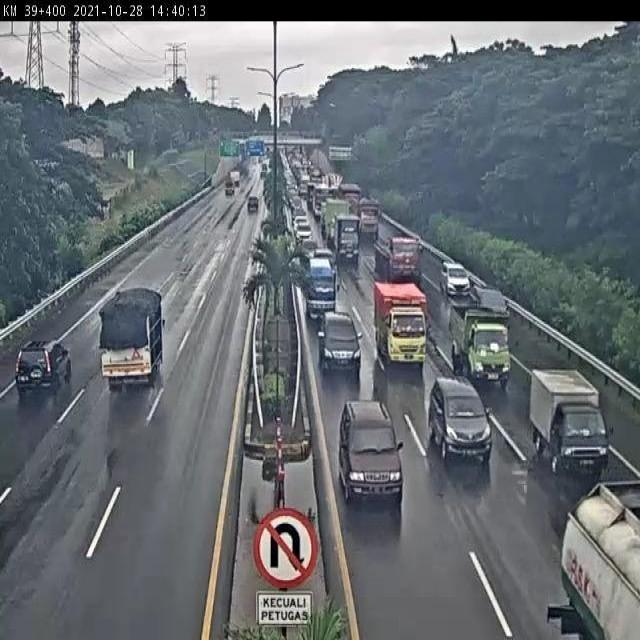bus-s-: (302, 253, 337, 320)
car: (339, 400, 405, 505), (428, 375, 492, 460), (15, 338, 73, 394), (317, 306, 363, 374), (472, 284, 512, 328), (439, 262, 472, 298), (298, 236, 320, 264), (313, 248, 335, 269)
small truck: (97, 288, 163, 388)
truck-m-: (449, 307, 513, 388), (372, 280, 428, 367), (336, 213, 363, 264)
truck-s-: (530, 367, 609, 473)
truck-xl-: (375, 236, 423, 287)
